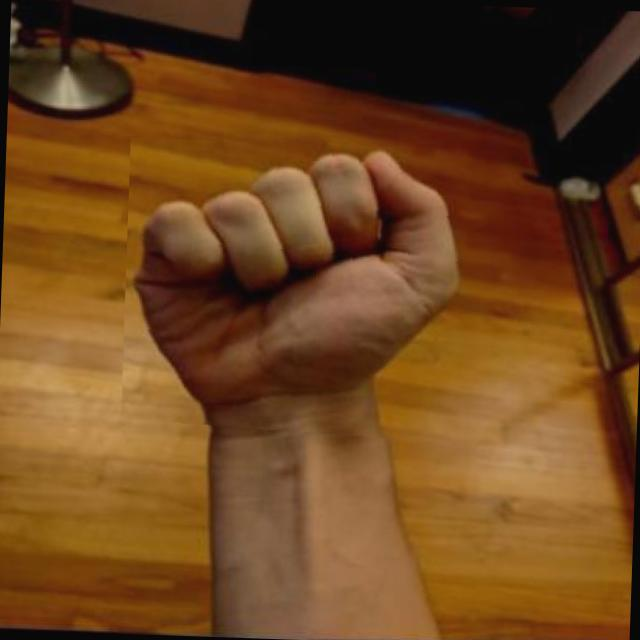A: (120, 138, 481, 444)
